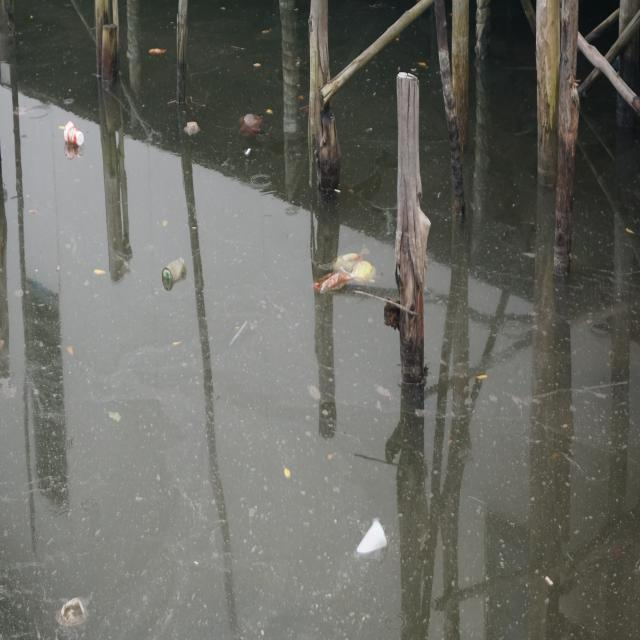Bungkus Makanan: (307, 242, 381, 319)
Bungkus Minuman: (352, 508, 394, 571), (60, 116, 97, 163), (160, 249, 192, 292)
Kantong Plastik: (232, 107, 266, 142)
